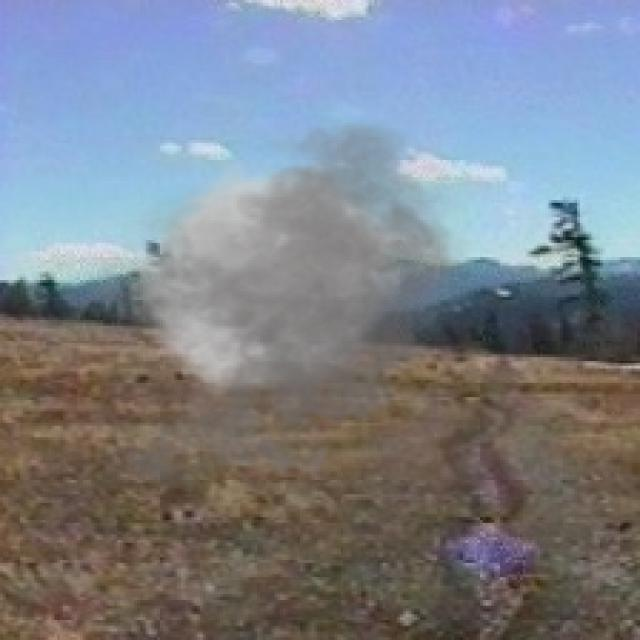Smoke: (57, 106, 483, 500)
